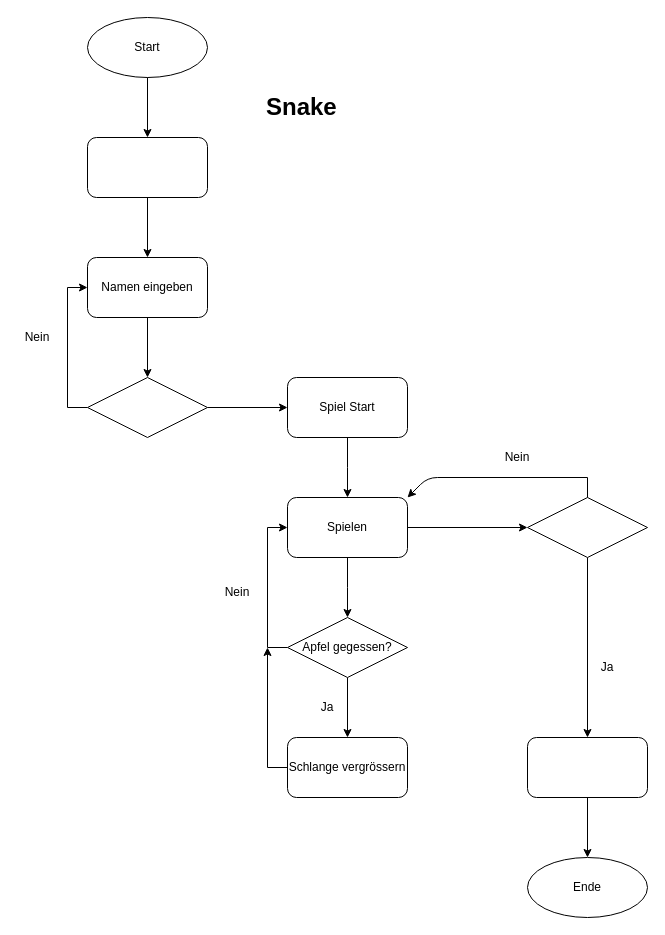
The diagram is 665 pixels wide and 935 high, and some of its shapes have lost their labels. The centre of each missing label's shape, as x and y in pixels:
Game Over Display mit Scoreangabe: pixel 587 767
Kollision?: pixel 587 527
Name gültig?: pixel 147 407
Snake im Launcher starten: pixel 147 167
